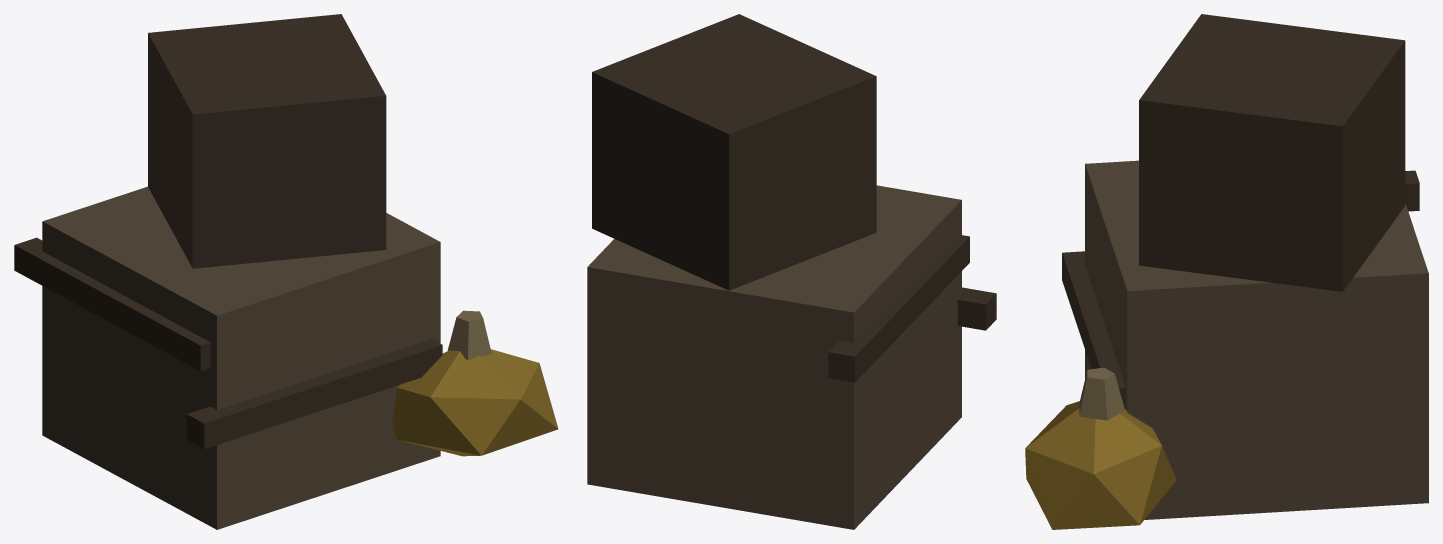
File: rock_crates.glb
The picture shows the model from 3 angles, left to right: view 1: azimuth 30°, elevation 25°; view 2: azimuth 150°, elevation 25°; view 3: azimuth 270°, elevation 25°; orthographic projection. The views are drawn at different scales.
Parts seen in each view (by area): view 1: rock_crates; view 2: rock_crates; view 3: rock_crates.
Boxes of the visible parts, bbox=[...] form: rock_crates: bbox=[14, 14, 558, 529]; rock_crates: bbox=[587, 14, 996, 529]; rock_crates: bbox=[1025, 14, 1428, 529].
Size of the model in its own units: 0.9166 by 0.86 by 0.7958.
